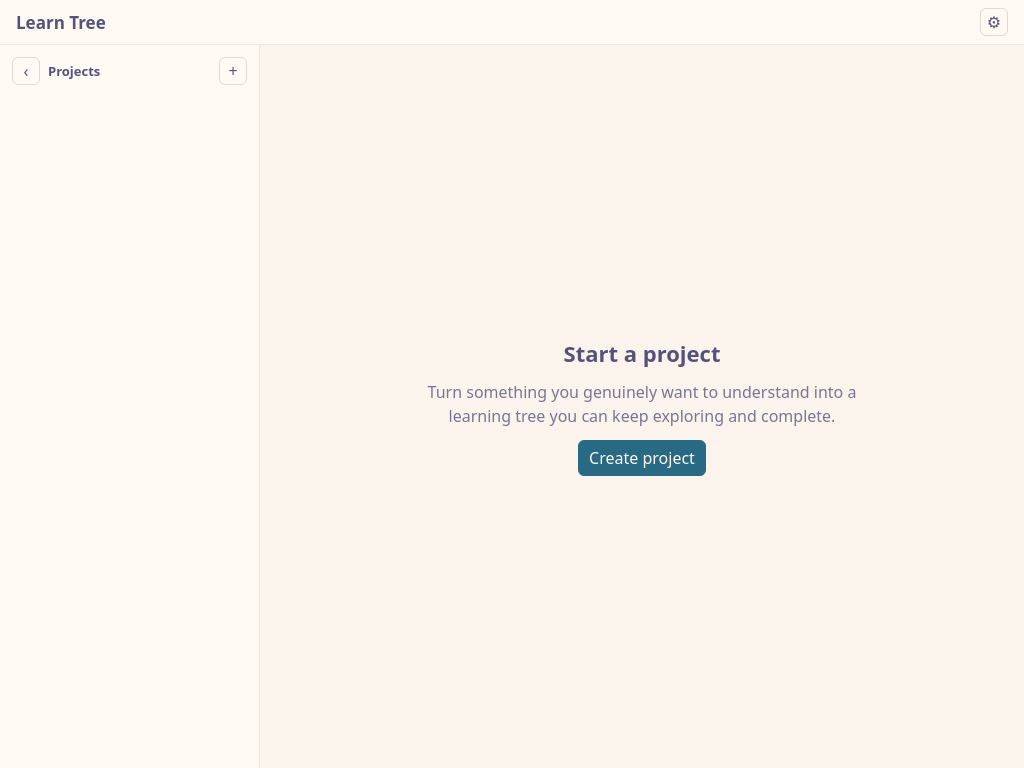
production workspace UI › validates an empty GitHub URL locally
Click the button with test id "project-create-open": (233, 71) [219,57,247,85]
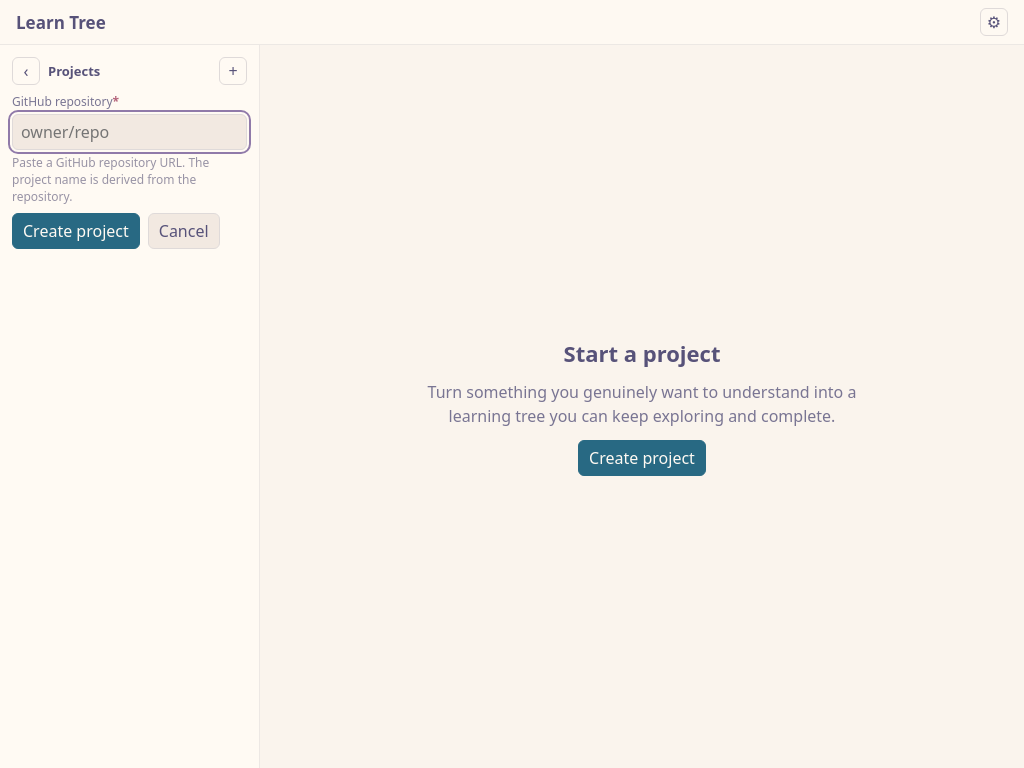
Click the button with test id "project-create-submit": (76, 231) [12,213,140,249]
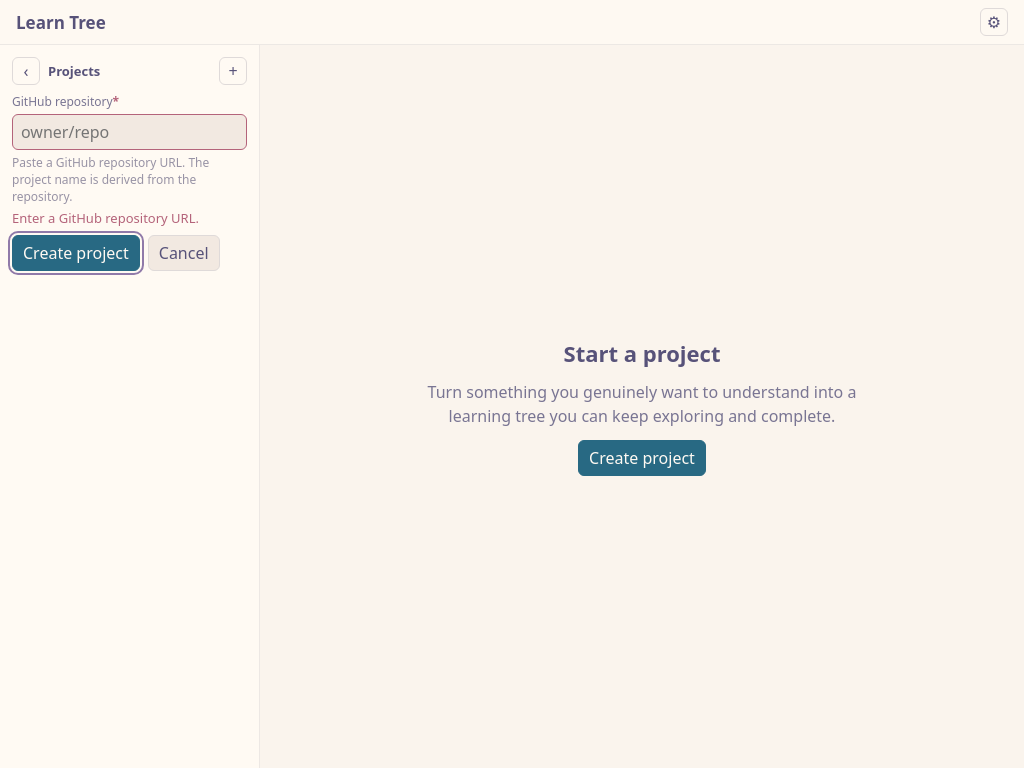
Expected: the text "Enter a GitHub repository URL." is shown, [12,209,199,227]
